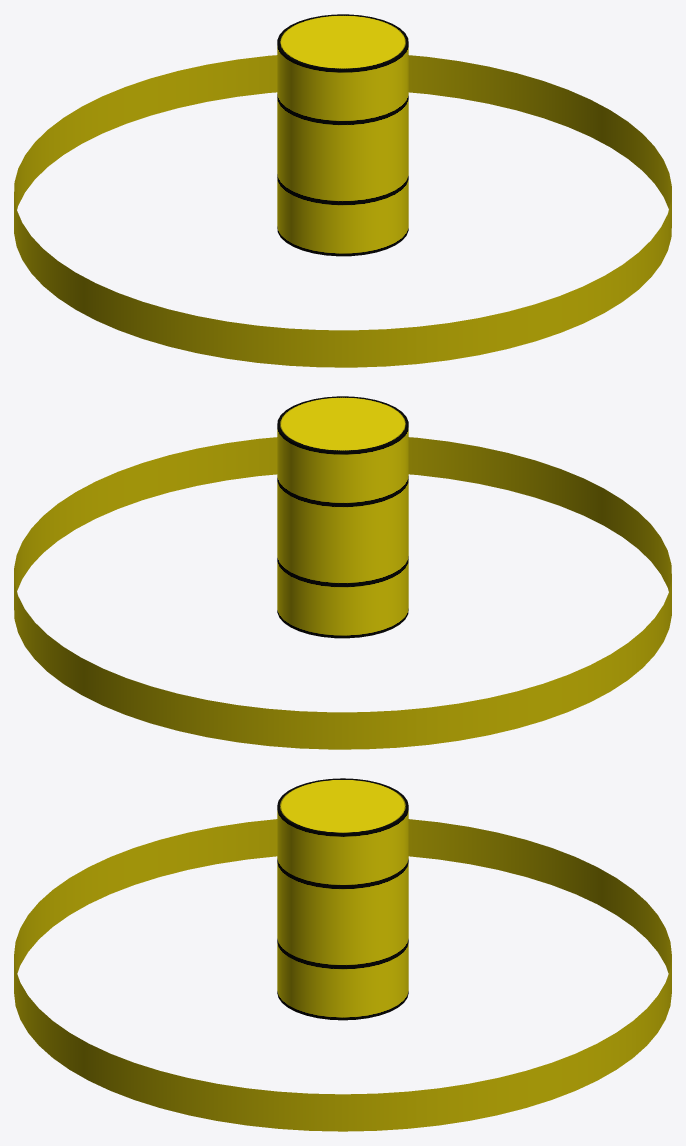
The model's file is barrel_s_r2.obj.
3 renders of one model, top to bottom at view 1: azimuth 30°, elevation 25°; view 2: azimuth 150°, elevation 25°; view 3: azimuth 270°, elevation 25°, orthographic.
Parts seen in each view (by area): view 1: barrel_s_r2; view 2: barrel_s_r2; view 3: barrel_s_r2.
Part boxes in pixels (<box>): barrel_s_r2: <box>14,14,671,367</box>; barrel_s_r2: <box>14,396,671,749</box>; barrel_s_r2: <box>14,778,671,1131</box>.
Bounding box in the file's own units: 4 × 1.25 × 4.
Materials: 3 (3 with a texture image).
